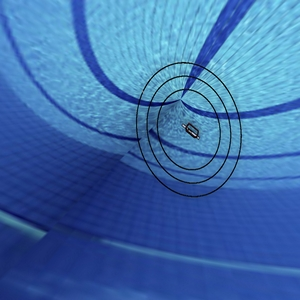circle: (130, 53, 247, 208)
submarine: (174, 113, 205, 151)
